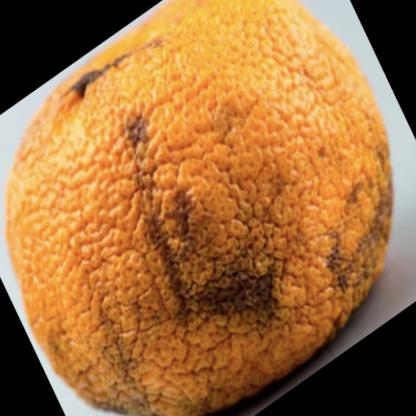rotten: (7, 1, 394, 416)
